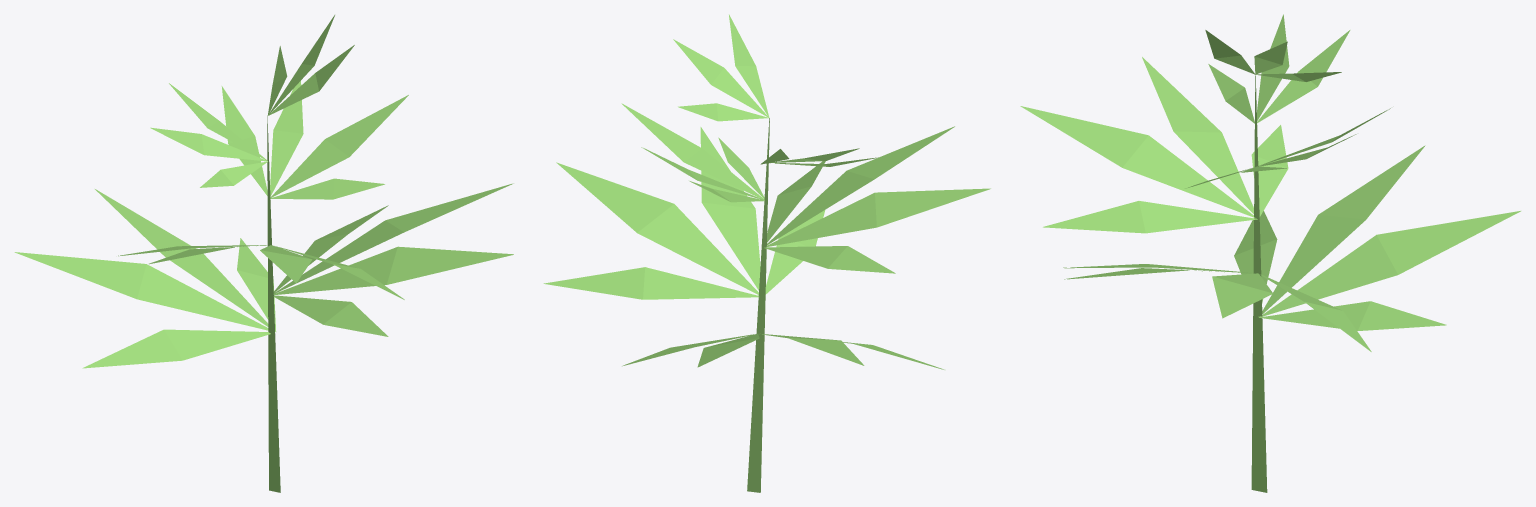
Rendered from plant1.fbx.
3 renders of one model, left to right at view 1: azimuth 30°, elevation 25°; view 2: azimuth 150°, elevation 25°; view 3: azimuth 270°, elevation 25°, orthographic. The views are drawn at different scales.
Visible parts, largest first — view 1: Plant_i_TwoS_05; view 2: Plant_i_TwoS_05; view 3: Plant_i_TwoS_05.
Part boxes in pixels (left/top/right/bottom): Plant_i_TwoS_05: left=14, top=15, right=513, bottom=492; Plant_i_TwoS_05: left=543, top=14, right=990, bottom=492; Plant_i_TwoS_05: left=1020, top=14, right=1520, bottom=492.
Bounding box in the file's own units: 25.11 × 25.9 × 26.97.
Materials: 1 (1 with a texture image).
